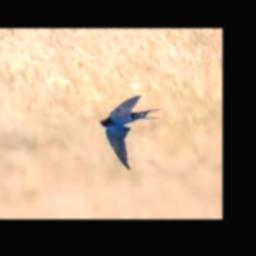Swallow: (99, 97, 160, 171)
